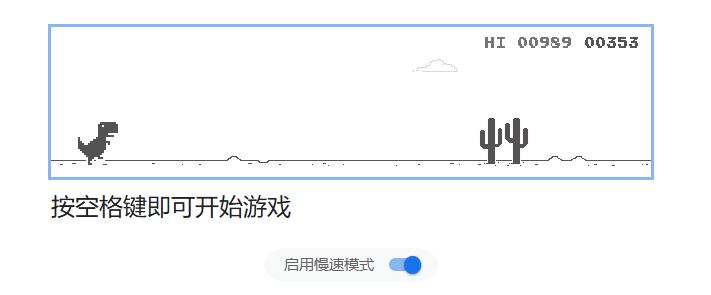cactus: (480, 116, 531, 167)
dino: (74, 120, 119, 166)
